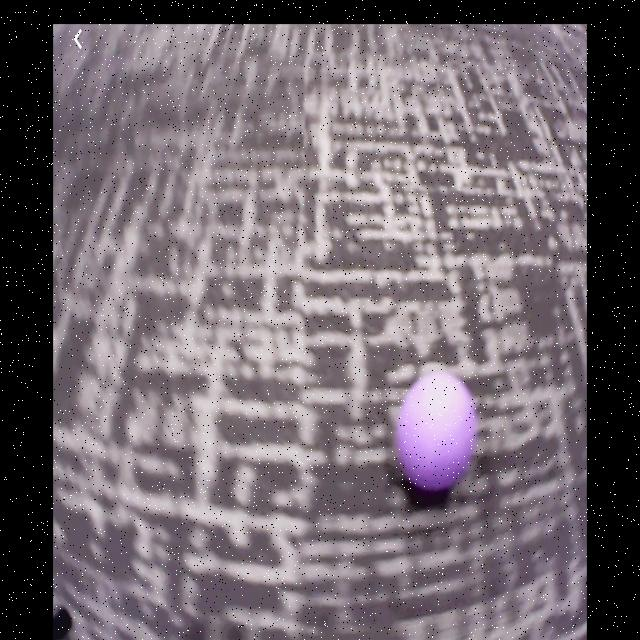ball: (397, 374, 478, 494)
